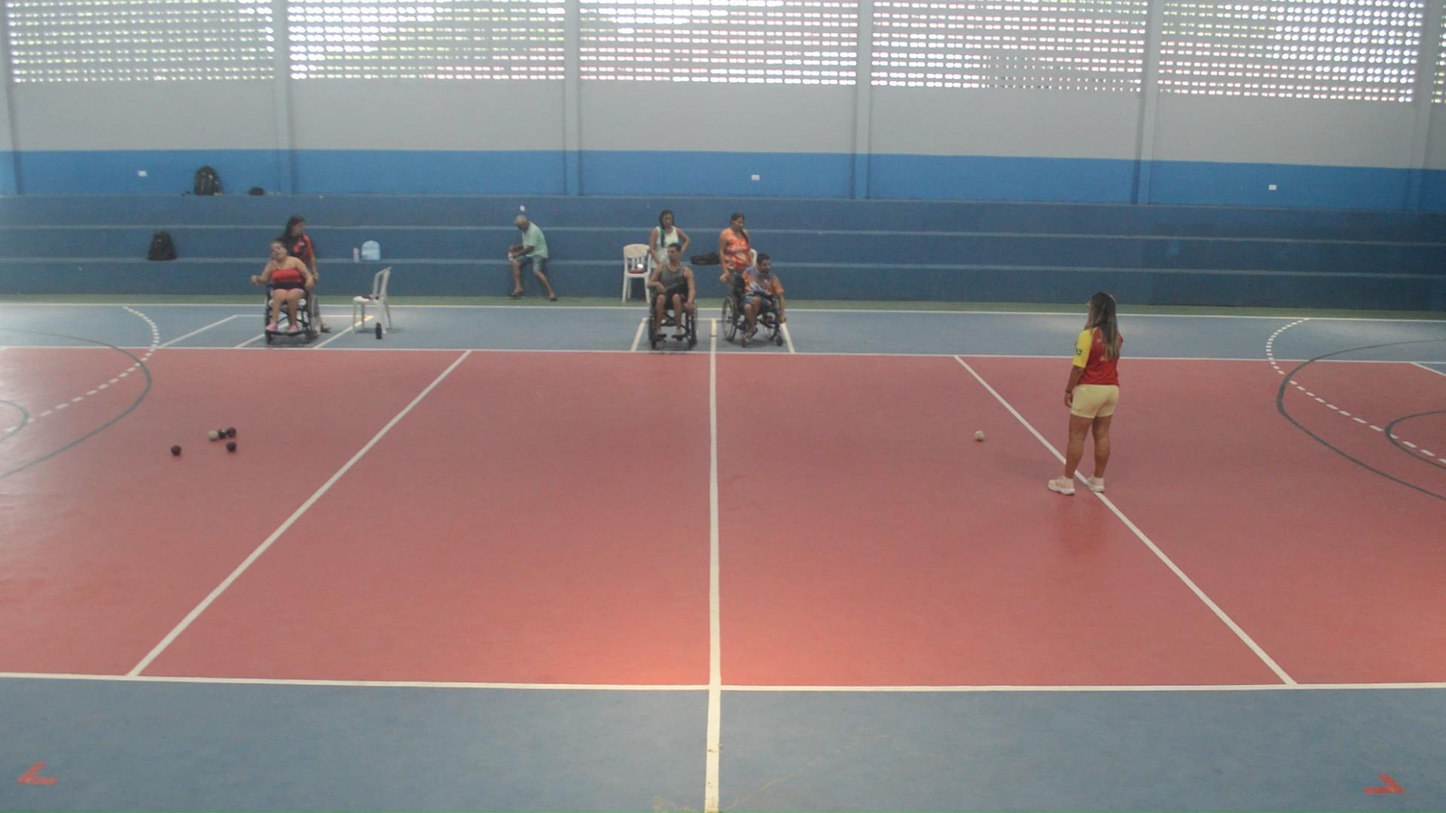white_ball: (975, 430, 984, 442)
